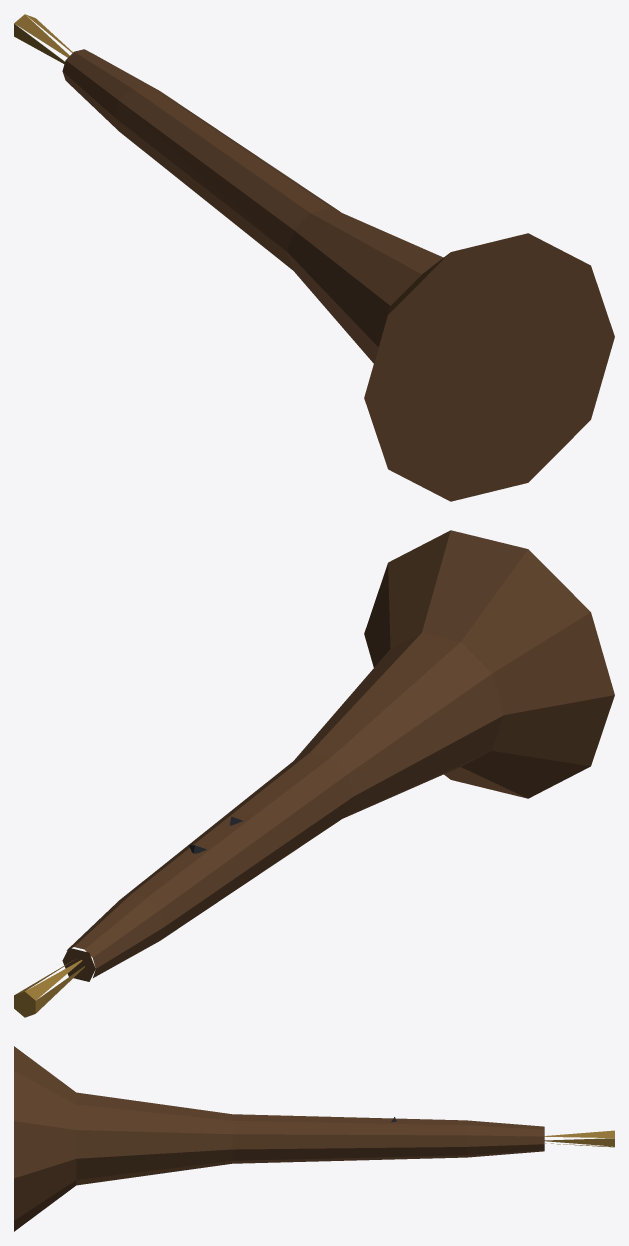
File: shawm.lod.glb
The picture shows the model from 3 angles, top to bottom: view 1: azimuth 30°, elevation 25°; view 2: azimuth 150°, elevation 25°; view 3: azimuth 270°, elevation 25°; orthographic projection. The views are drawn at different scales.
Visible parts, largest first — view 1: m; view 2: m; view 3: m.
Boxes of the visible parts, x1=… form: m: x1=14, y1=14, x2=614, y2=501; m: x1=14, y1=530, x2=614, y2=1017; m: x1=14, y1=1046, x2=614, y2=1231.
Bounding box in the file's own units: 0.1122 × 0.1067 × 0.36.
